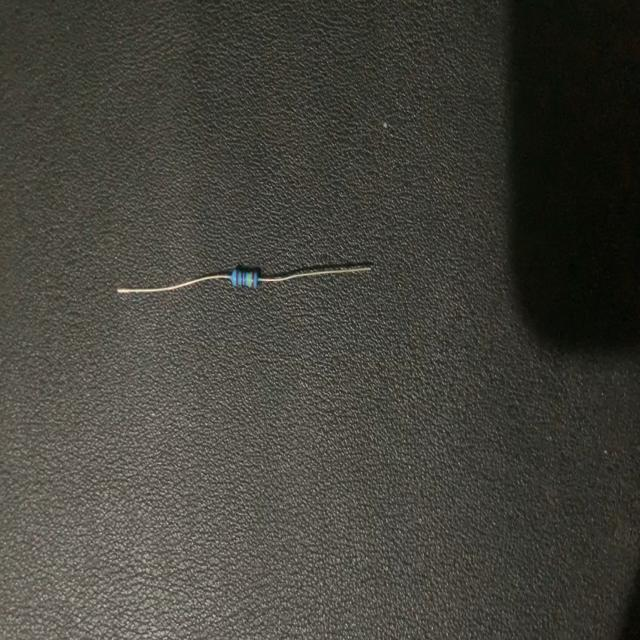resistor: (109, 253, 379, 306)
